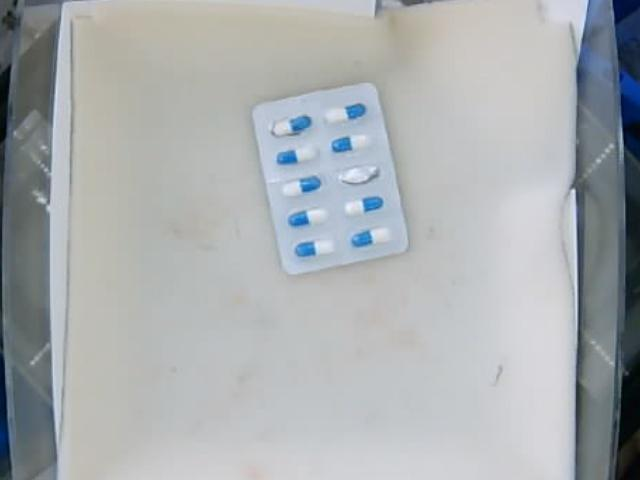Medicine: (254, 80, 410, 275)
